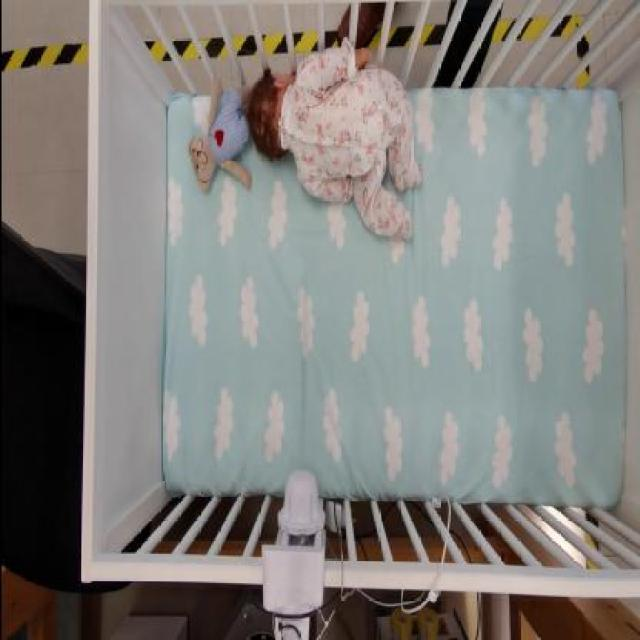baby: (242, 41, 423, 248)
